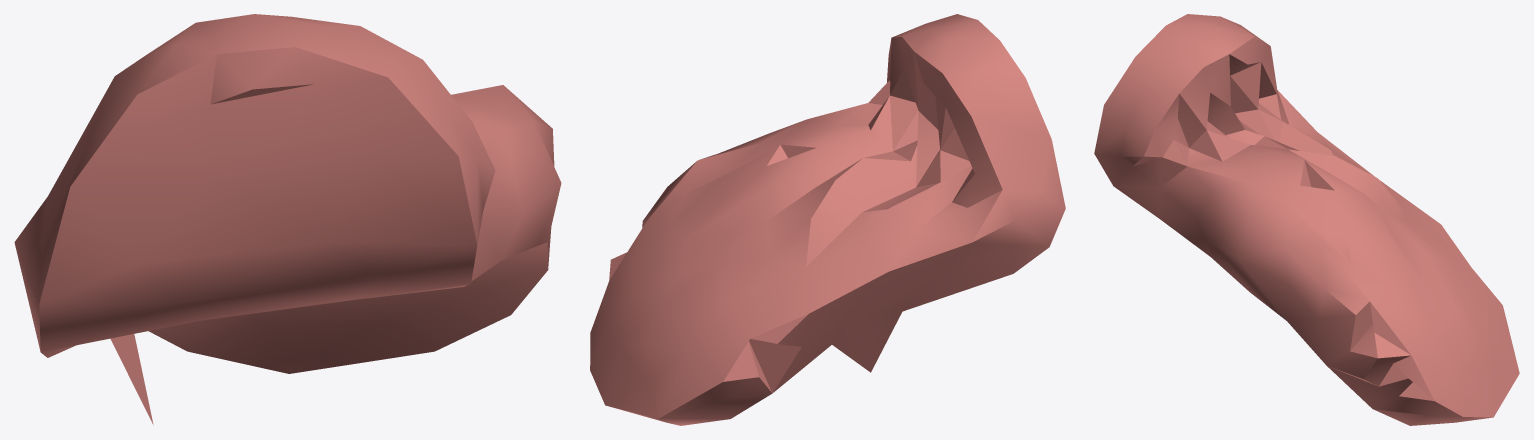
The model's file is fma48987_mm1282m.glb.
3 views of the same model, side by side, from view 1: azimuth 30°, elevation 25°; view 2: azimuth 150°, elevation 25°; view 3: azimuth 270°, elevation 25° (orthographic). The views are drawn at different scales.
Visible parts, largest first — view 1: FMA48987_MM1282M; view 2: FMA48987_MM1282M; view 3: FMA48987_MM1282M.
Boxes of the visible parts, x1,y1,x2,y2 form: FMA48987_MM1282M: [14, 14, 561, 424]; FMA48987_MM1282M: [590, 14, 1065, 425]; FMA48987_MM1282M: [1094, 14, 1519, 425].
Bounding box in the file's own units: 0.00748 × 0.00635 × 0.00769.
